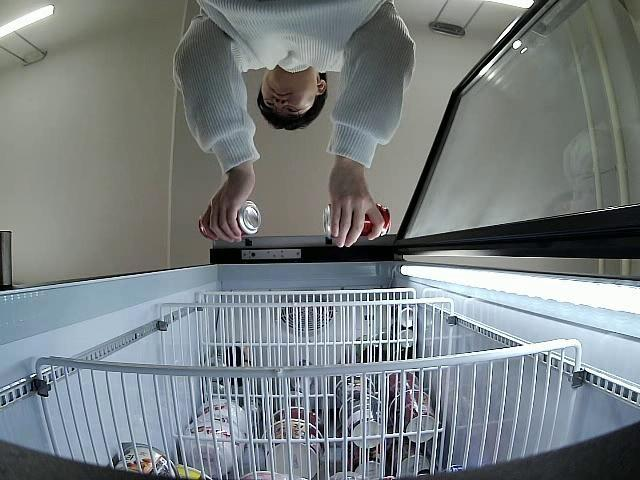11_cocaColaZero: (323, 202, 390, 241), (198, 202, 260, 239)
